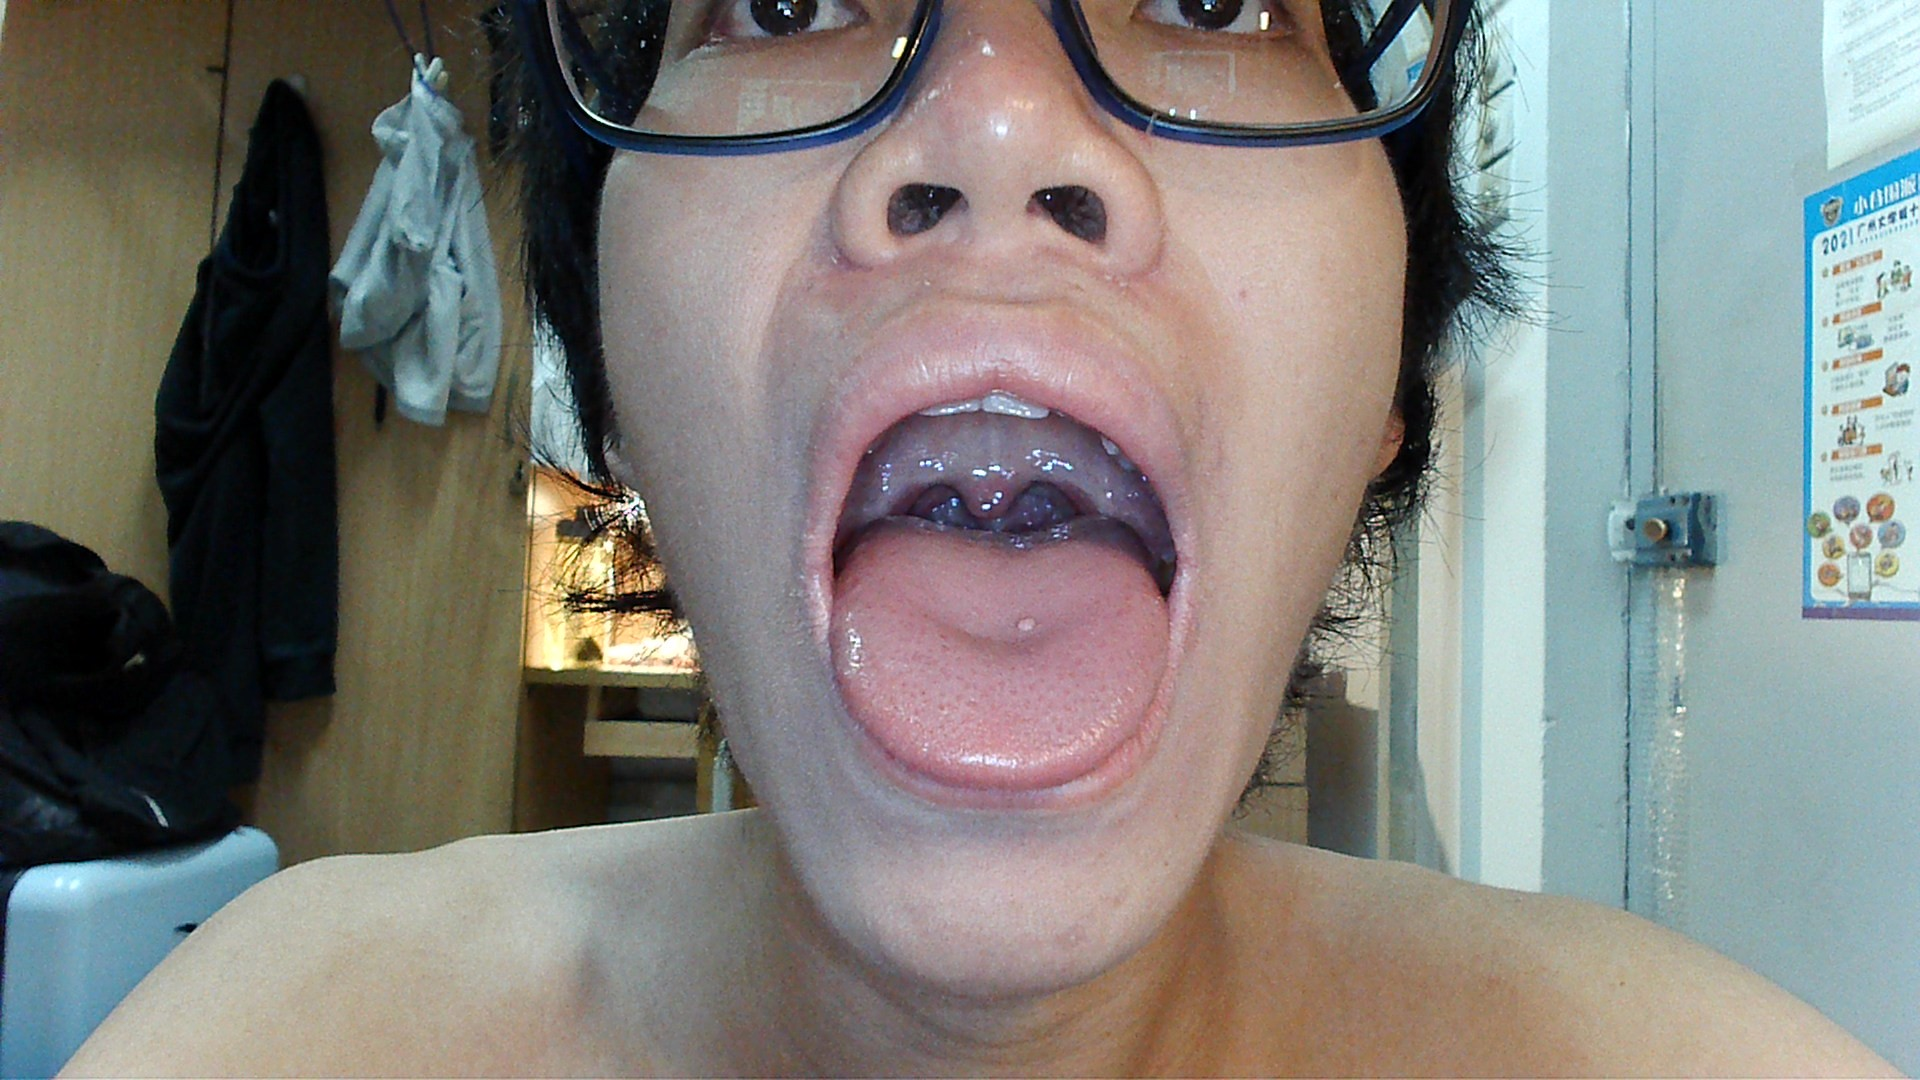throat: (1046, 436, 1091, 512), (882, 460, 930, 516)
